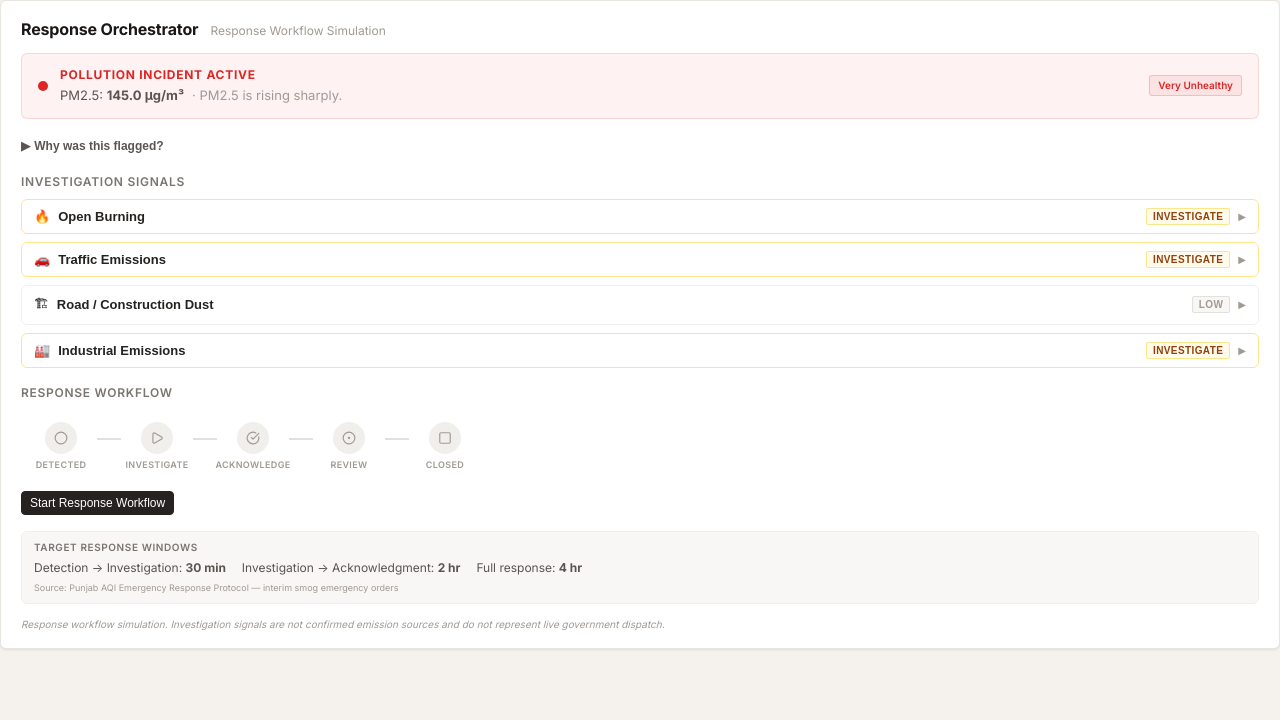
ResponseOrchestrator › workflow interaction › resets workflow back to initial state
Note: Start workflow
Click the button "Start Response Workflow": {"x": 98, "y": 503} [21,491,174,515]
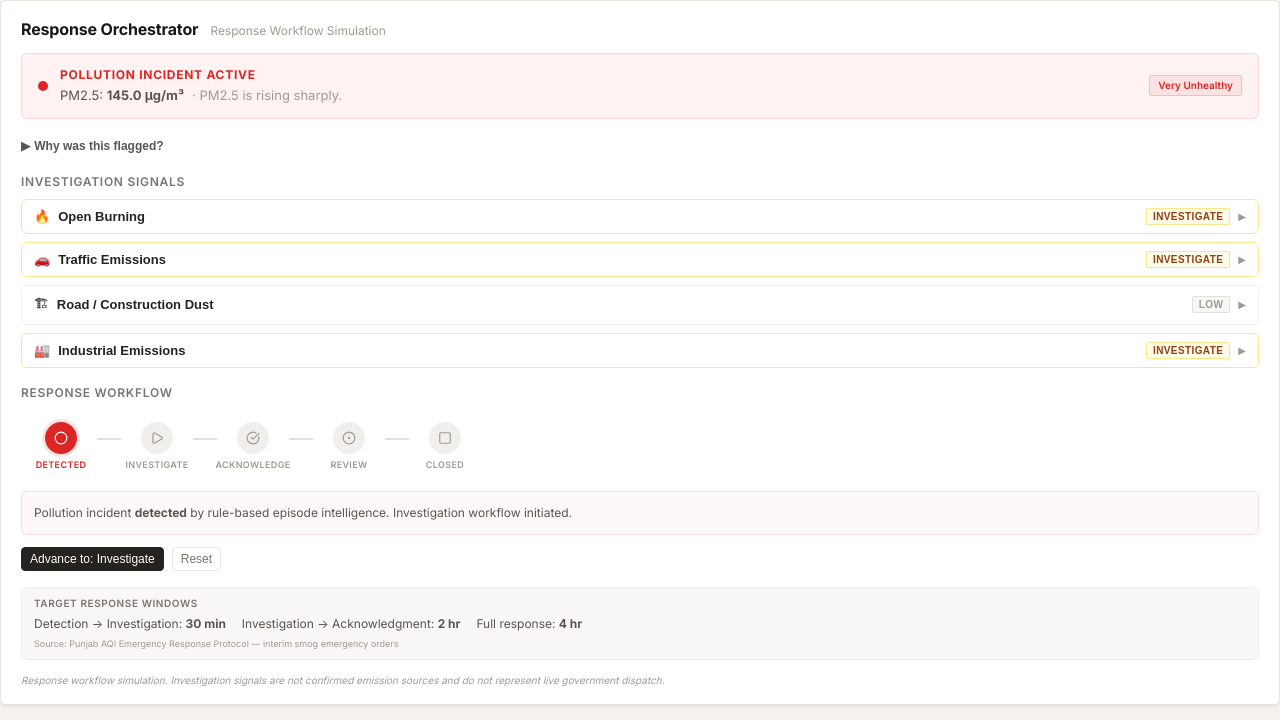
Click the button "Advance to: Investigate": {"x": 92, "y": 559} [21,547,164,571]
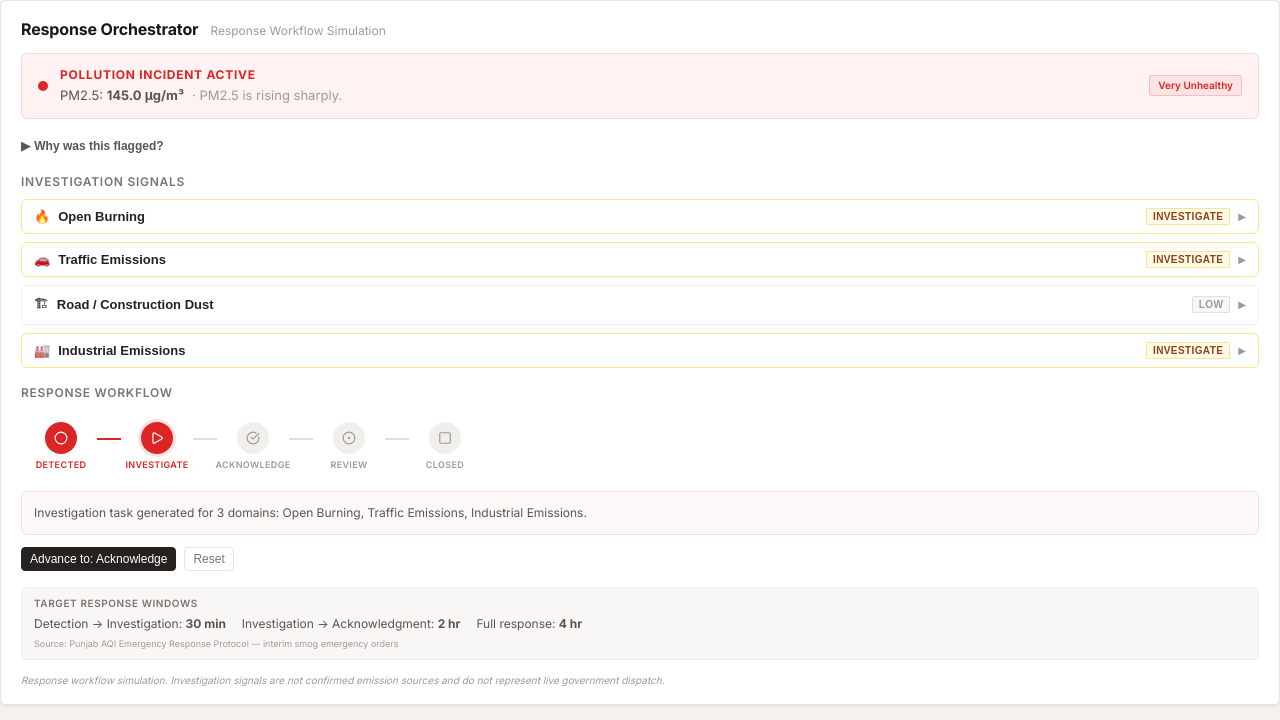
Click the button "Reset": {"x": 209, "y": 559} [184,547,234,571]
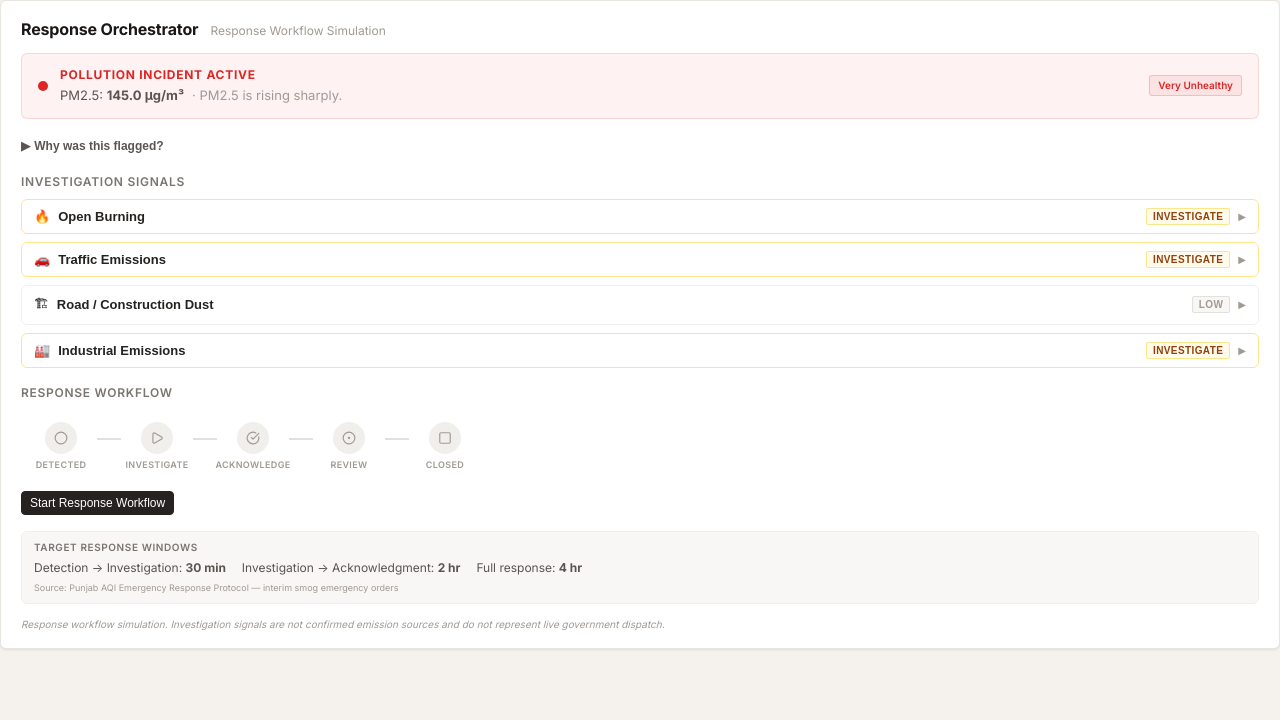
Expected: the button "Start Response Workflow" is shown, [21,491,174,515]
